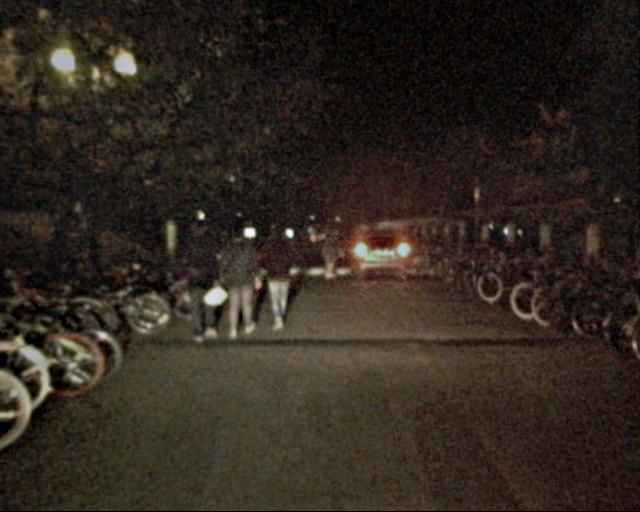person: (183, 210, 225, 340), (260, 217, 297, 334), (227, 230, 261, 339), (318, 226, 343, 279)
